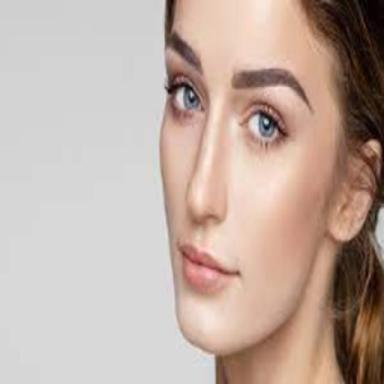normal skin: (161, 0, 377, 384)
